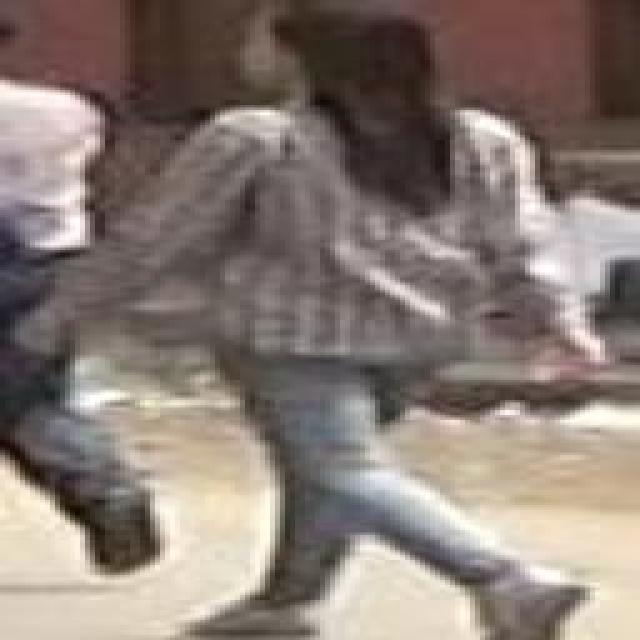adult: (48, 0, 604, 639), (0, 20, 158, 572)
